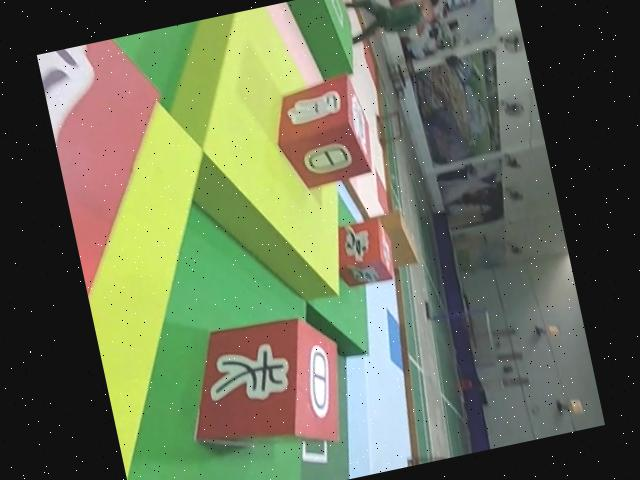R1: (325, 214, 401, 293)
R2 Fake: (170, 304, 358, 475), (263, 68, 381, 197)
